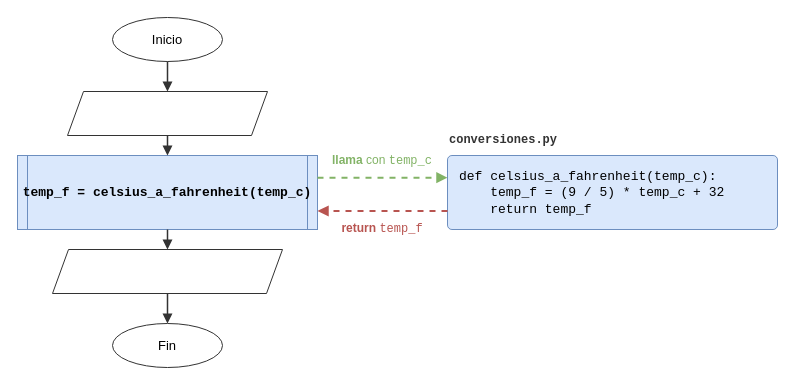
Image size: 795x385. Some labels were removed from this diagram. Each missing label, with the centre of its shape:
"Escribir(temp_c, temp_f)" goes at point 167,271.
"Leer(temp_c)" goes at point 167,113.
